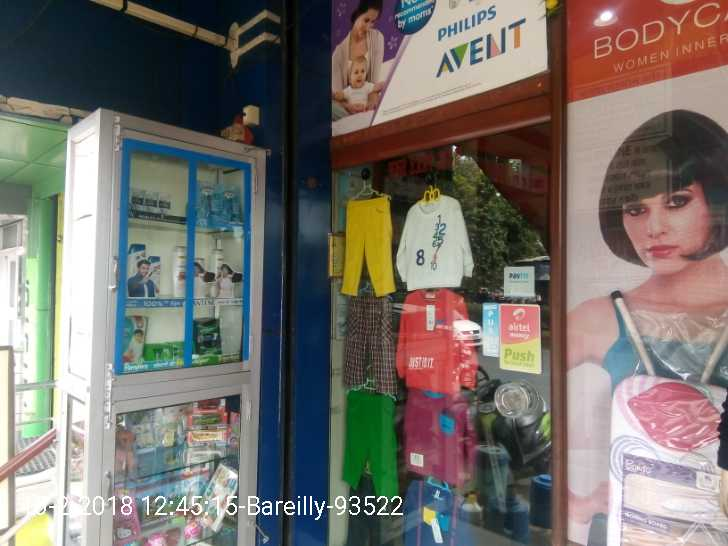venus: (198, 182, 220, 222), (220, 187, 239, 222)
